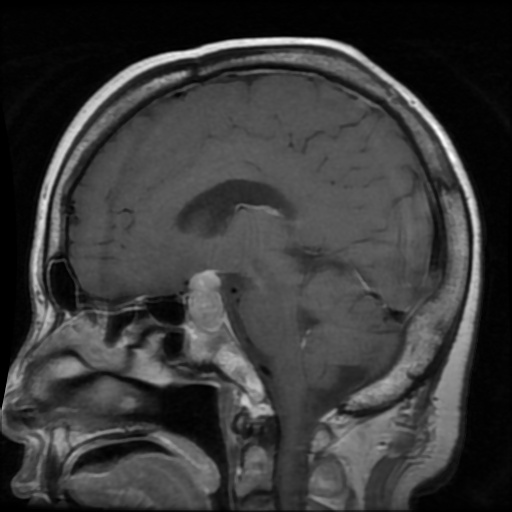pituitary: (188, 271, 224, 328)
